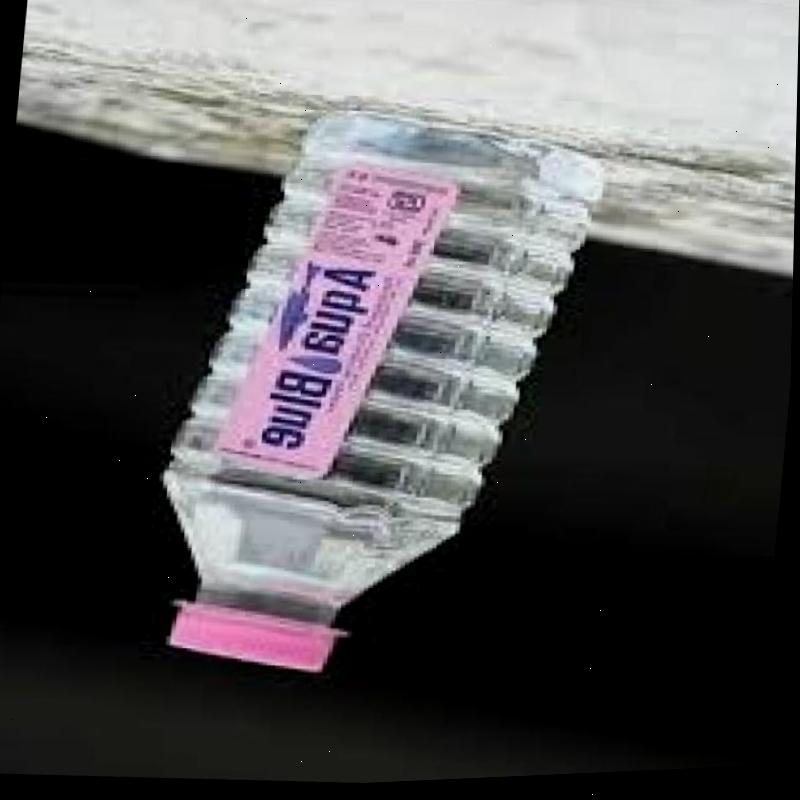botella: (149, 94, 623, 699)
